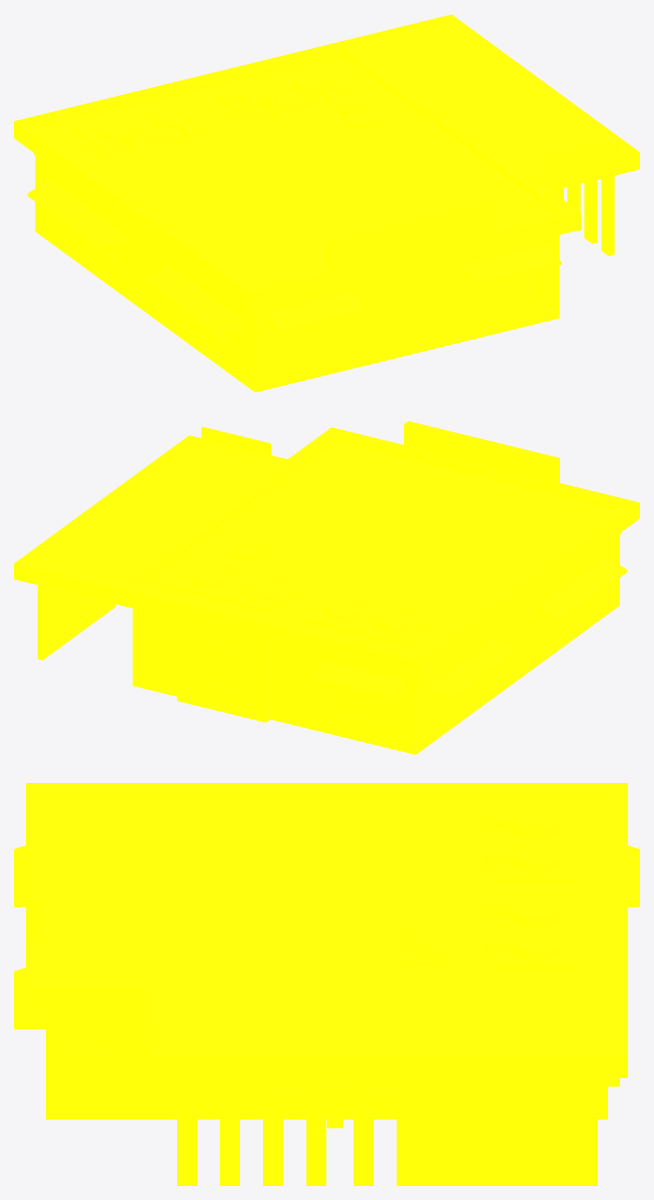
The model's file is building-burger-joint.glb.
3 views of the same model, one above another, from view 1: azimuth 30°, elevation 25°; view 2: azimuth 150°, elevation 25°; view 3: azimuth 270°, elevation 25° (orthographic). The views are drawn at different scales.
Parts seen in each view (by area): view 1: building-burger-joint; view 2: building-burger-joint; view 3: building-burger-joint.
Part boxes in pixels (box(x1,y1,x2,y2)): building-burger-joint: box(14, 14, 639, 392); building-burger-joint: box(14, 421, 639, 754); building-burger-joint: box(14, 783, 639, 1185).
Bounding box in the file's own units: 16.4 × 4.8 × 15.6.
1 material, 1 textured.
